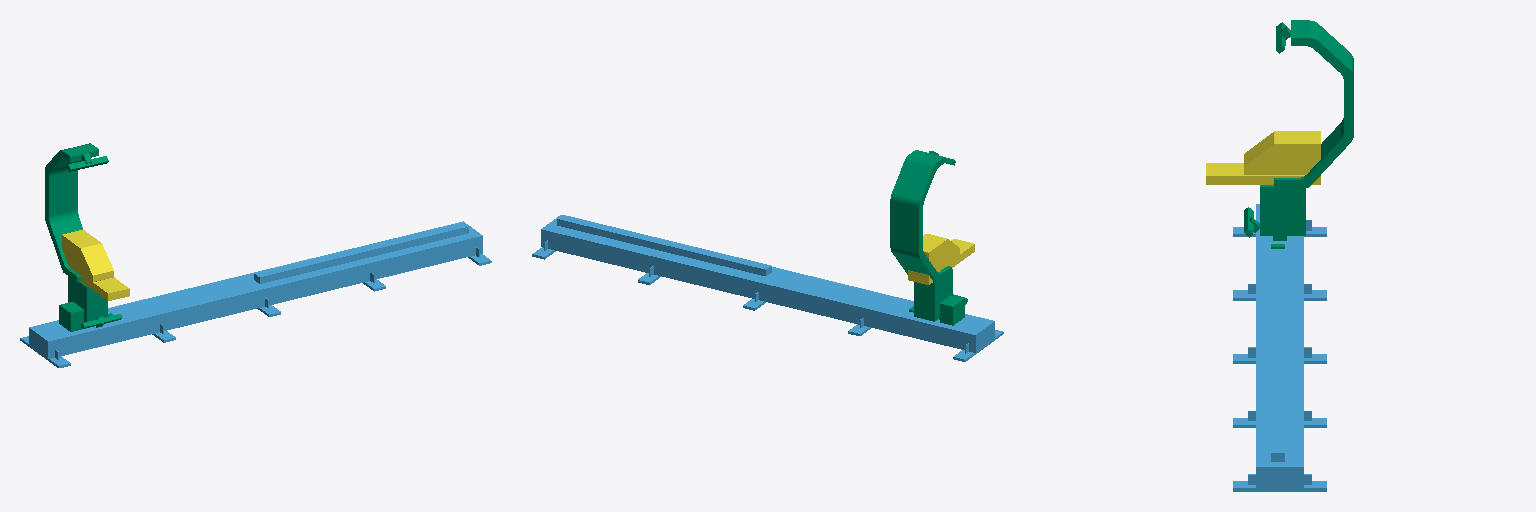
The robot description file, URDF, robot "dda_rb10_1300e":
<?xml version='1.0' encoding='utf-8'?>
<robot name="dda_rb10_1300e">
  <link name="dda_link_base" />
  <link name="dda_link_linear_track">
    <visual>
      <origin xyz="1.36424e-15 4.09273e-15 0.161" rpy="4.75452e-30 0 -1.22465e-16" />
      <geometry>
        <box size="7.208 0.56 0.282" />
      </geometry>
    </visual>
    <collision>
      <origin xyz="1.36424e-15 4.09273e-15 0.161" rpy="4.75452e-30 0 -1.22465e-16" />
      <geometry>
        <box size="7.208 0.56 0.282" />
      </geometry>
    </collision>
    <visual>
      <origin xyz="-3.489 1.36424e-15 -1.74094e-15" rpy="4.75452e-30 0 -1.22465e-16" />
      <geometry>
        <box size="0.2 1.1 0.04" />
      </geometry>
    </visual>
    <collision>
      <origin xyz="-3.489 1.36424e-15 -1.74094e-15" rpy="4.75452e-30 0 -1.22465e-16" />
      <geometry>
        <box size="0.2 1.1 0.04" />
      </geometry>
    </collision>
    <visual>
      <origin xyz="-1.7445 9.09495e-16 -7.50906e-16" rpy="4.75452e-30 0 -1.22465e-16" />
      <geometry>
        <box size="0.2 1.1 0.04" />
      </geometry>
    </visual>
    <collision>
      <origin xyz="-1.7445 9.09495e-16 -7.50906e-16" rpy="4.75452e-30 0 -1.22465e-16" />
      <geometry>
        <box size="0.2 1.1 0.04" />
      </geometry>
    </collision>
    <visual>
      <origin xyz="3.35376e-15 0 -7.48527e-16" rpy="4.75452e-30 0 -1.22465e-16" />
      <geometry>
        <box size="0.2 1.1 0.04" />
      </geometry>
    </visual>
    <collision>
      <origin xyz="3.35376e-15 0 -7.48527e-16" rpy="4.75452e-30 0 -1.22465e-16" />
      <geometry>
        <box size="0.2 1.1 0.04" />
      </geometry>
    </collision>
    <visual>
      <origin xyz="1.7445 -9.09495e-16 -5.93382e-16" rpy="4.75452e-30 0 -1.22465e-16" />
      <geometry>
        <box size="0.2 1.1 0.04" />
      </geometry>
    </visual>
    <collision>
      <origin xyz="1.7445 -9.09495e-16 -5.93382e-16" rpy="4.75452e-30 0 -1.22465e-16" />
      <geometry>
        <box size="0.2 1.1 0.04" />
      </geometry>
    </collision>
    <visual>
      <origin xyz="3.489 -9.09495e-16 9.40989e-15" rpy="4.75452e-30 0 -1.22465e-16" />
      <geometry>
        <box size="0.2 1.1 0.04" />
      </geometry>
    </visual>
    <collision>
      <origin xyz="3.489 -9.09495e-16 9.40989e-15" rpy="4.75452e-30 0 -1.22465e-16" />
      <geometry>
        <box size="0.2 1.1 0.04" />
      </geometry>
    </collision>
    <visual>
      <origin xyz="-3.489 -2.4329e-14 0.085" rpy="1.5708 0 -4.56336e-15" />
      <geometry>
        <box size="0.015 0.13 0.74" />
      </geometry>
    </visual>
    <collision>
      <origin xyz="-3.489 -2.4329e-14 0.085" rpy="1.5708 0 -4.56336e-15" />
      <geometry>
        <box size="0.015 0.13 0.74" />
      </geometry>
    </collision>
    <visual>
      <origin xyz="-1.7445 -1.72804e-14 0.085" rpy="1.5708 0 -4.56336e-15" />
      <geometry>
        <box size="0.015 0.13 0.74" />
      </geometry>
    </visual>
    <collision>
      <origin xyz="-1.7445 -1.72804e-14 0.085" rpy="1.5708 0 -4.56336e-15" />
      <geometry>
        <box size="0.015 0.13 0.74" />
      </geometry>
    </collision>
    <visual>
      <origin xyz="5.79803e-15 -2.52385e-14 0.085" rpy="1.5708 0 -4.56336e-15" />
      <geometry>
        <box size="0.015 0.13 0.74" />
      </geometry>
    </visual>
    <collision>
      <origin xyz="5.79803e-15 -2.52385e-14 0.085" rpy="1.5708 0 -4.56336e-15" />
      <geometry>
        <box size="0.015 0.13 0.74" />
      </geometry>
    </collision>
    <visual>
      <origin xyz="1.7445 -3.31966e-14 0.085" rpy="1.5708 0 -4.56336e-15" />
      <geometry>
        <box size="0.015 0.13 0.74" />
      </geometry>
    </visual>
    <collision>
      <origin xyz="1.7445 -3.31966e-14 0.085" rpy="1.5708 0 -4.56336e-15" />
      <geometry>
        <box size="0.015 0.13 0.74" />
      </geometry>
    </collision>
    <visual>
      <origin xyz="3.489 -4.1382e-14 0.085" rpy="1.5708 0 -4.56336e-15" />
      <geometry>
        <box size="0.015 0.13 0.74" />
      </geometry>
    </visual>
    <collision>
      <origin xyz="3.489 -4.1382e-14 0.085" rpy="1.5708 0 -4.56336e-15" />
      <geometry>
        <box size="0.015 0.13 0.74" />
      </geometry>
    </collision>
    <visual>
      <origin xyz="-1.7317 0.025 0.245" rpy="-1.5708 0 1.45473e-15" />
      <geometry>
        <box size="3.4624 0.33 0.165" />
      </geometry>
    </visual>
    <collision>
      <origin xyz="-1.7317 0.025 0.245" rpy="-1.5708 0 1.45473e-15" />
      <geometry>
        <box size="3.4624 0.33 0.165" />
      </geometry>
    </collision>
  </link>
  <link name="dda_link_carriage">
    <visual>
      <origin xyz="-7.95808e-16 0.0125 -2.27374e-16" rpy="1.5708 7.88908e-15 -3.14159" />
      <geometry>
        <box size="0.8 0.52 0.025" />
      </geometry>
    </visual>
    <collision>
      <origin xyz="-7.95808e-16 0.0125 -2.27374e-16" rpy="1.5708 7.88908e-15 -3.14159" />
      <geometry>
        <box size="0.8 0.52 0.025" />
      </geometry>
    </collision>
    <visual>
      <origin xyz="-0.35975 0.063 -0.025" rpy="1.5708 7.88908e-15 -3.14159" />
      <geometry>
        <box size="0.0805 0.165 0.076" />
      </geometry>
    </visual>
    <collision>
      <origin xyz="-0.35975 0.063 -0.025" rpy="1.5708 7.88908e-15 -3.14159" />
      <geometry>
        <box size="0.0805 0.165 0.076" />
      </geometry>
    </collision>
    <visual>
      <origin xyz="0.289 0.201 9.09495e-15" rpy="1.5708 7.88908e-15 -3.14159" />
      <geometry>
        <box size="0.226 0.3245 0.352" />
      </geometry>
    </visual>
    <collision>
      <origin xyz="0.289 0.201 9.09495e-15" rpy="1.5708 7.88908e-15 -3.14159" />
      <geometry>
        <box size="0.226 0.3245 0.352" />
      </geometry>
    </collision>
    <visual>
      <origin xyz="-1.25056e-15 0.09 -3.18323e-15" rpy="1.5708 7.88908e-15 -3.14159" />
      <geometry>
        <box size="0.33 0.16 0.102" />
      </geometry>
    </visual>
    <collision>
      <origin xyz="-1.25056e-15 0.09 -3.18323e-15" rpy="1.5708 7.88908e-15 -3.14159" />
      <geometry>
        <box size="0.33 0.16 0.102" />
      </geometry>
    </collision>
    <visual>
      <origin xyz="-1.21645e-14 0.4515 0.035" rpy="1.5708 7.88908e-15 -3.14159" />
      <geometry>
        <box size="0.352 0.53 0.621" />
      </geometry>
    </visual>
    <collision>
      <origin xyz="-1.21645e-14 0.4515 0.035" rpy="1.5708 7.88908e-15 -3.14159" />
      <geometry>
        <box size="0.352 0.53 0.621" />
      </geometry>
    </collision>
    <visual>
      <origin xyz="0.0107325 2.63285 0.0521338" rpy="0.0054756 -0.680086 -1.5708" />
      <geometry>
        <box size="0.1 0.0953271 0.145436" />
      </geometry>
    </visual>
    <collision>
      <origin xyz="0.0107325 2.63285 0.0521338" rpy="0.0054756 -0.680086 -1.5708" />
      <geometry>
        <box size="0.1 0.0953271 0.145436" />
      </geometry>
    </collision>
    <visual>
      <origin xyz="0.0157407 2.58451 0.00994251" rpy="-3.12431 -0.680086 -1.5708" />
      <geometry>
        <box size="0.0679 0.627868 0.0901768" />
      </geometry>
    </visual>
    <collision>
      <origin xyz="0.0157407 2.58451 0.00994251" rpy="-3.12431 -0.680086 -1.5708" />
      <geometry>
        <box size="0.0679 0.627868 0.0901768" />
      </geometry>
    </collision>
    <visual>
      <origin xyz="0.000232483 0.198227 -0.307389" rpy="0.0054756 0.757225 -1.5708" />
      <geometry>
        <box size="0.1 0.0953271 0.145436" />
      </geometry>
    </visual>
    <collision>
      <origin xyz="0.000232483 0.198227 -0.307389" rpy="0.0054756 0.757225 -1.5708" />
      <geometry>
        <box size="0.1 0.0953271 0.145436" />
      </geometry>
    </collision>
    <visual>
      <origin xyz="0.00524071 0.23361 -0.360911" rpy="-3.12431 0.757225 -1.5708" />
      <geometry>
        <box size="0.0679 0.627868 0.0901768" />
      </geometry>
    </visual>
    <collision>
      <origin xyz="0.00524071 0.23361 -0.360911" rpy="-3.12431 0.757225 -1.5708" />
      <geometry>
        <box size="0.0679 0.627868 0.0901768" />
      </geometry>
    </collision>
    <visual>
      <origin xyz="-0.673122 -0.257 -1.5" rpy="1.5708 7.88908e-15 -3.14159" />
      <geometry>
        <mesh filename="meshes/slab_0_1_1_349_ccfc56fc.stl" scale="0.001 0.001 0.001" />
      </geometry>
    </visual>
    <collision>
      <origin xyz="-0.673122 -0.257 -1.5" rpy="1.5708 7.88908e-15 -3.14159" />
      <geometry>
        <mesh filename="meshes/slab_0_1_1_349_ccfc56fc.stl" scale="0.001 0.001 0.001" />
      </geometry>
    </collision>
  </link>
  <link name="dda_link_slide">
    <visual>
      <origin xyz="-0.66625 0.05775 -0.00325" rpy="1.5708 -5.36832e-16 -3.14159" />
      <geometry>
        <box size="1.3315 0.3515 0.1225" />
      </geometry>
    </visual>
    <collision>
      <origin xyz="-0.66625 0.05775 -0.00325" rpy="1.5708 -5.36832e-16 -3.14159" />
      <geometry>
        <box size="1.3315 0.3515 0.1225" />
      </geometry>
    </collision>
    <visual>
      <origin xyz="-1.9768 1.167 -0.677622" rpy="1.5708 1.5708 0" />
      <geometry>
        <mesh filename="meshes/slab_0_1_1_720_212c22b0.stl" scale="0.001 0.001 0.001" />
      </geometry>
    </visual>
    <collision>
      <origin xyz="-1.9768 1.167 -0.677622" rpy="1.5708 1.5708 0" />
      <geometry>
        <mesh filename="meshes/slab_0_1_1_720_212c22b0.stl" scale="0.001 0.001 0.001" />
      </geometry>
    </collision>
  </link>
  <link name="dda_link0">
    <visual>
      <geometry>
        <mesh filename="meshes/rb10_1300e/visual/link0.dae" />
      </geometry>
    </visual>
    <collision>
      <geometry>
        <mesh filename="meshes/rb10_1300e/collision/link0.stl" />
      </geometry>
    </collision>
  </link>
  <link name="dda_link1">
    <visual>
      <geometry>
        <mesh filename="meshes/rb10_1300e/visual/link1.dae" />
      </geometry>
    </visual>
    <collision>
      <geometry>
        <mesh filename="meshes/rb10_1300e/collision/link1.stl" />
      </geometry>
    </collision>
  </link>
  <link name="dda_link2">
    <visual>
      <geometry>
        <mesh filename="meshes/rb10_1300e/visual/link2.dae" />
      </geometry>
    </visual>
    <collision>
      <geometry>
        <mesh filename="meshes/rb10_1300e/collision/link2.stl" />
      </geometry>
    </collision>
  </link>
  <link name="dda_link3">
    <visual>
      <geometry>
        <mesh filename="meshes/rb10_1300e/visual/link3.dae" />
      </geometry>
    </visual>
    <collision>
      <geometry>
        <mesh filename="meshes/rb10_1300e/collision/link3.stl" />
      </geometry>
    </collision>
  </link>
  <link name="dda_link4">
    <visual>
      <geometry>
        <mesh filename="meshes/rb10_1300e/visual/link4.dae" />
      </geometry>
    </visual>
    <collision>
      <geometry>
        <mesh filename="meshes/rb10_1300e/collision/link4.stl" />
      </geometry>
    </collision>
  </link>
  <link name="dda_link5">
    <visual>
      <geometry>
        <mesh filename="meshes/rb10_1300e/visual/link5.dae" />
      </geometry>
    </visual>
    <collision>
      <geometry>
        <mesh filename="meshes/rb10_1300e/collision/link5.stl" />
      </geometry>
    </collision>
  </link>
  <link name="dda_link6">
    <visual>
      <geometry>
        <mesh filename="meshes/rb10_1300e/visual/link6.dae" />
      </geometry>
    </visual>
    <collision>
      <geometry>
        <mesh filename="meshes/rb10_1300e/collision/link6.stl" />
      </geometry>
    </collision>
  </link>
  <link name="dda_link_end">
    <visual>
      <origin xyz="0 0 0" rpy="0 0 0" />
      <geometry>
        <mesh filename="meshes/tool_dda.stl" />
      </geometry>
      <material name="tool_black">
        <color rgba="0.1 0.1 0.1 1" />
      </material>
    </visual>
    <collision>
      <origin xyz="0 0 0" rpy="0 0 0" />
      <geometry>
        <mesh filename="meshes/tool_dda.stl" />
      </geometry>
    </collision>
  </link>
  <joint name="dda_joint_rail_mount" type="fixed">
    <origin xyz="0.32245 1.5 0.03" rpy="0 0 3.14159" />
    <parent link="dda_link_base" />
    <child link="dda_link_linear_track" />
  </joint>
  <joint name="dda_joint_linear_track" type="prismatic">
    <origin xyz="2.764572 0 0.227" rpy="1.5708 0 0" />
    <parent link="dda_link_linear_track" />
    <child link="dda_link_carriage" />
    <axis xyz="-1 0 0" />
    <limit lower="0" upper="5.37" effort="1000.0" velocity="1.0" />
  </joint>
  <joint name="dda_joint_carriage" type="prismatic">
    <origin xyz="0.0045 0.91 0.476799" rpy="0 -1.57079265 -3.14159" />
    <parent link="dda_link_carriage" />
    <child link="dda_link_slide" />
    <axis xyz="-1 0 0" />
    <limit lower="0" upper="0.7" effort="1000.0" velocity="1.0" />
  </joint>
  <joint name="dda_joint_mount" type="fixed">
    <origin xyz="-1.08599939 -0.00354128091 -0.00450024731" rpy="-1.57079367 3.67321484e-06 3.14158898" />
    <parent link="dda_link_slide" />
    <child link="dda_link0" />
  </joint>
  <joint name="dda_joint_base" type="revolute">
    <origin rpy="0 0 0" xyz="0 0 0" />
    <parent link="dda_link0" />
    <child link="dda_link1" />
    <axis xyz="0 0 1" />
    <limit effort="10" lower="-3.14" upper="3.14" velocity="3.14" />
  </joint>
  <joint name="dda_joint_shoulder" type="revolute">
    <origin rpy="0 0 0" xyz="0 0 0.197" />
    <parent link="dda_link1" />
    <child link="dda_link2" />
    <axis xyz="0 1 0" />
    <limit effort="10" lower="-3.14" upper="3.14" velocity="3.14" />
  </joint>
  <joint name="dda_joint_elbow" type="revolute">
    <origin rpy="0 0 0" xyz="0 -0.1875 0.6127" />
    <parent link="dda_link2" />
    <child link="dda_link3" />
    <axis xyz="0 1 0" />
    <limit effort="10" lower="-3.14" upper="3.14" velocity="3.14" />
  </joint>
  <joint name="dda_joint_wrist1" type="revolute">
    <origin rpy="0 0 0" xyz="0 0.1484 0.57015" />
    <parent link="dda_link3" />
    <child link="dda_link4" />
    <axis xyz="0 1 0" />
    <limit effort="10" lower="-3.14" upper="3.14" velocity="3.14" />
  </joint>
  <joint name="dda_joint_wrist2" type="revolute">
    <origin rpy="0 0 0" xyz="0 -0.11715 0" />
    <parent link="dda_link4" />
    <child link="dda_link5" />
    <axis xyz="0 0 1" />
    <limit effort="10" lower="-3.14" upper="3.14" velocity="3.14" />
  </joint>
  <joint name="dda_joint_wrist3" type="revolute">
    <origin rpy="0 0 0" xyz="0 0 0.11715" />
    <parent link="dda_link5" />
    <child link="dda_link6" />
    <axis xyz="0 1 0" />
    <limit effort="10" lower="-3.14" upper="3.14" velocity="3.14" />
  </joint>
  <joint name="dda_joint_end" type="fixed">
    <origin xyz="0.00450781579 -0.169365555 0.00228070346" rpy="0 1.57078735 -1.57079633" />
    <parent link="dda_link6" />
    <child link="dda_link_end" />
  </joint>
</robot>

--- What the picture shows (computed from the rendered views, not written in the file) ---
3 views of the same robot in one strip: view 1: azimuth 30°, elevation 25°; view 2: azimuth 150°, elevation 25°; view 3: azimuth 270°, elevation 25° (orthographic).
Model dda_rb10_1300e with 12 links and 11 joints (6 revolute, 2 prismatic, 3 fixed), rooted at dda_link_base, posed every joint at zero.
Visible links, largest first — view 1: dda_link_linear_track, dda_link_carriage, dda_link_slide; view 2: dda_link_linear_track, dda_link_carriage, dda_link_slide; view 3: dda_link_linear_track, dda_link_carriage, dda_link_slide.
Link boxes in pixels (x1,y1,x2,y2): dda_link_linear_track: (20, 221, 491, 367); dda_link_carriage: (45, 143, 121, 331); dda_link_slide: (62, 230, 129, 300); dda_link_linear_track: (532, 215, 1003, 361); dda_link_carriage: (890, 150, 967, 325); dda_link_slide: (908, 234, 974, 284); dda_link_linear_track: (1233, 204, 1326, 491); dda_link_carriage: (1244, 20, 1353, 248); dda_link_slide: (1206, 131, 1320, 184).
Bounding box of the posed robot: 7.21 × 1.71 × 2.96 m (x, y, z).
Meshes: 10 distinct files referenced, 2 mesh visuals loaded (2 binary STL); not drawn: 8 (reference not matched to a file when rendering).
